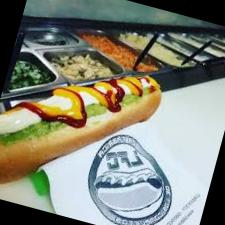Completos: (0, 35, 167, 224)
